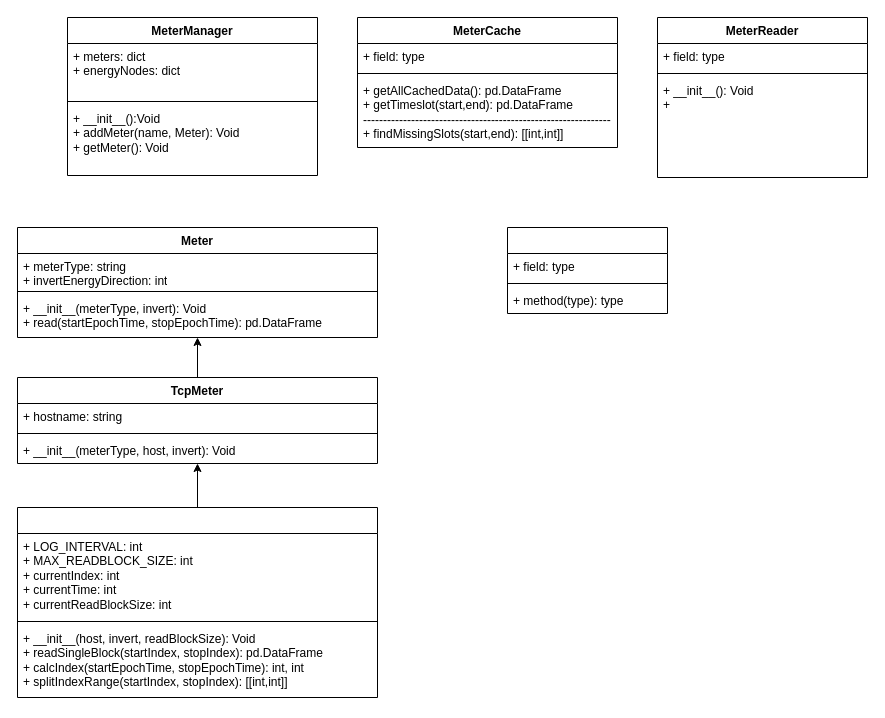
This 885x718 diagram has some shape labels left out. The box of each missing label's shape, as (x1, y1, x2, y2) in pixels:
EmuMeter: (16, 506, 378, 698)
EnergyConsumer: (506, 226, 668, 314)
